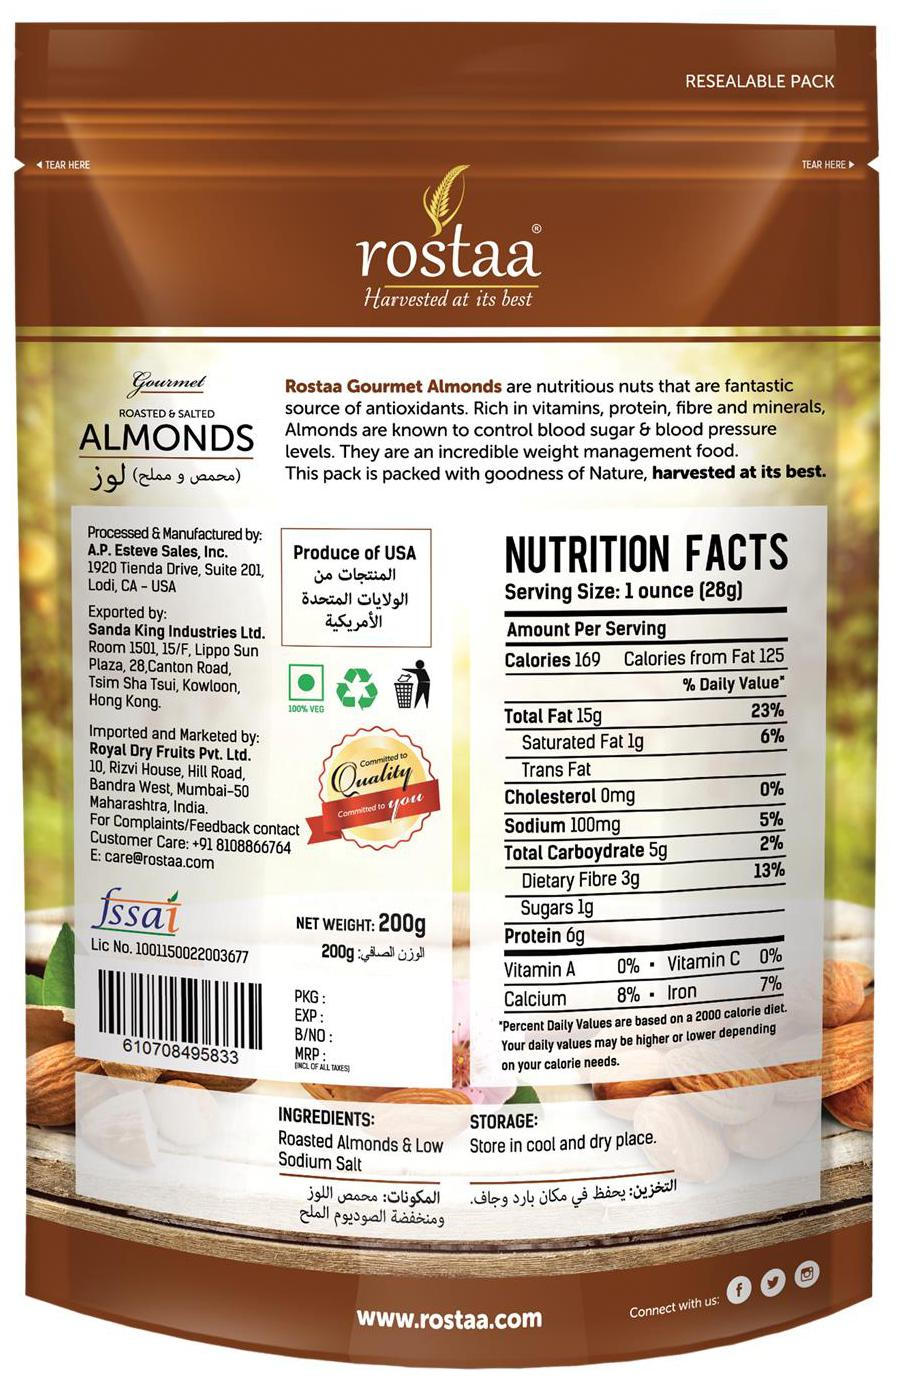fssai: (91, 887, 181, 936)
